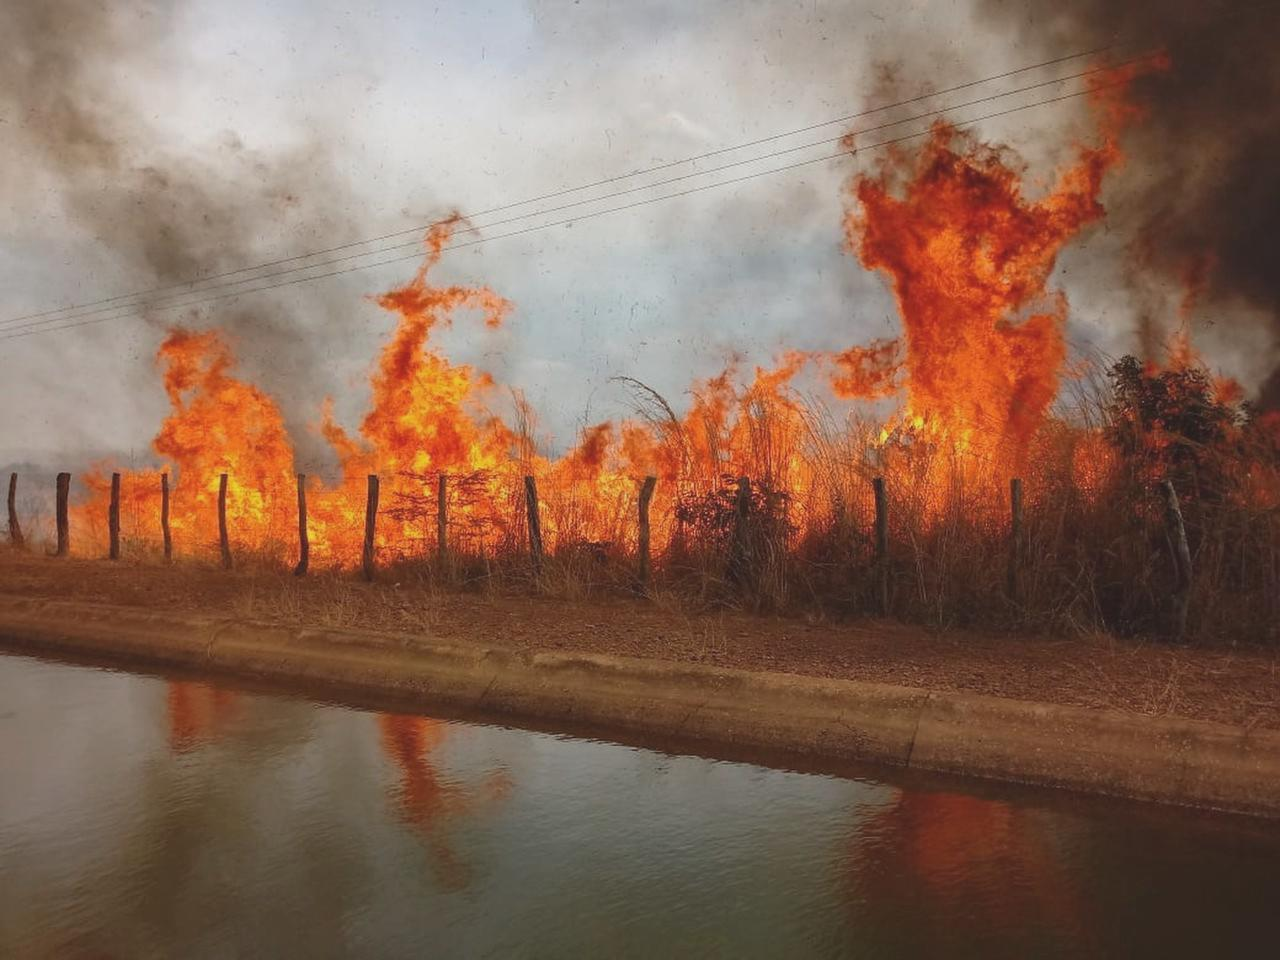fire: (857, 154, 1078, 464), (372, 277, 510, 542), (147, 332, 288, 566), (555, 443, 860, 507)
smoke: (58, 58, 333, 318), (1093, 0, 1279, 278)
